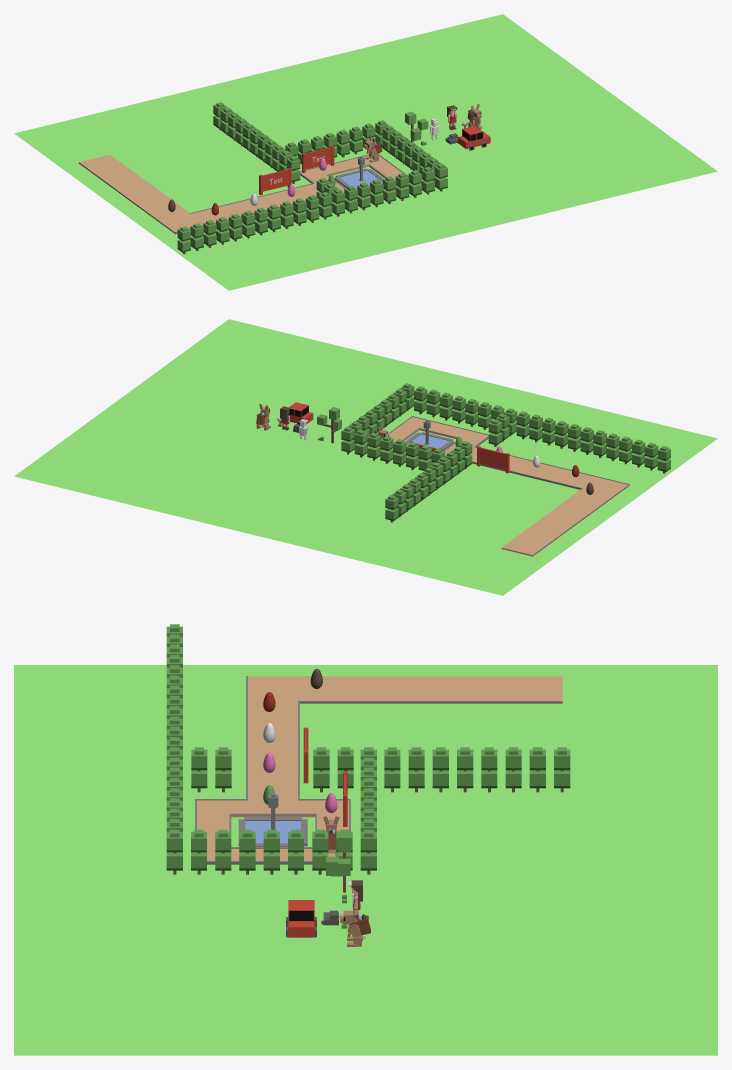
File: EasterTestChar2.glb
The picture shows the model from 3 angles, top to bottom: view 1: azimuth 30°, elevation 25°; view 2: azimuth 150°, elevation 25°; view 3: azimuth 270°, elevation 25°; orthographic projection. The views are drawn at different scales.
Visible parts, largest first — view 1: Plane.001, Cube.003, Path, Cube.002, Cube, Cube.004, Cube.007, Project_2, Cube.001, Project_1, Cube.006; view 2: Plane.001, Cube.003, Path, Cube, Cube.002, Cube.004, Cube.007, Project_2, Cube.005, Cube.006; view 3: Plane.001, Path, Cube.002, Cube.004, Cube.003, Cube.007, Cube.005, Cube, Cube.006, Cube.001, Plane.002, Cube.008.
Part boxes in pixels (bbox=[...]): Plane.001: bbox=[14, 14, 717, 290]; Cube.003: bbox=[177, 167, 434, 254]; Path: bbox=[79, 153, 410, 234]; Cube.002: bbox=[375, 120, 447, 191]; Cube: bbox=[272, 123, 375, 171]; Cube.004: bbox=[213, 102, 278, 167]; Cube.007: bbox=[335, 156, 383, 189]; Project_2: bbox=[259, 168, 291, 195]; Cube.001: bbox=[458, 126, 490, 150]; Project_1: bbox=[302, 145, 334, 172]; Cube.006: bbox=[279, 150, 300, 183]; Plane.001: bbox=[14, 319, 717, 595]; Cube.003: bbox=[414, 386, 670, 473]; Path: bbox=[388, 416, 629, 556]; Cube: bbox=[354, 429, 457, 479]; Cube.002: bbox=[341, 383, 414, 454]; Cube.004: bbox=[385, 457, 450, 522]; Cube.007: bbox=[405, 420, 454, 450]; Project_2: bbox=[477, 446, 509, 473]; Cube.005: bbox=[488, 414, 509, 446]; Cube.006: bbox=[451, 441, 472, 474]; Plane.001: bbox=[14, 665, 717, 1055]; Path: bbox=[195, 676, 562, 864]; Cube.002: bbox=[166, 829, 376, 874]; Cube.004: bbox=[384, 747, 570, 792]; Cube.003: bbox=[166, 624, 182, 831]; Cube.007: bbox=[238, 793, 307, 846]; Cube.005: bbox=[191, 747, 231, 792]; Cube: bbox=[360, 747, 376, 831]; Cube.006: bbox=[313, 747, 353, 792]; Cube.001: bbox=[286, 900, 316, 937]; Plane.002: bbox=[326, 832, 350, 892]; Cube.008: bbox=[340, 902, 370, 946].
Bounding box in the file's own units: 394 × 26.49 × 300.
